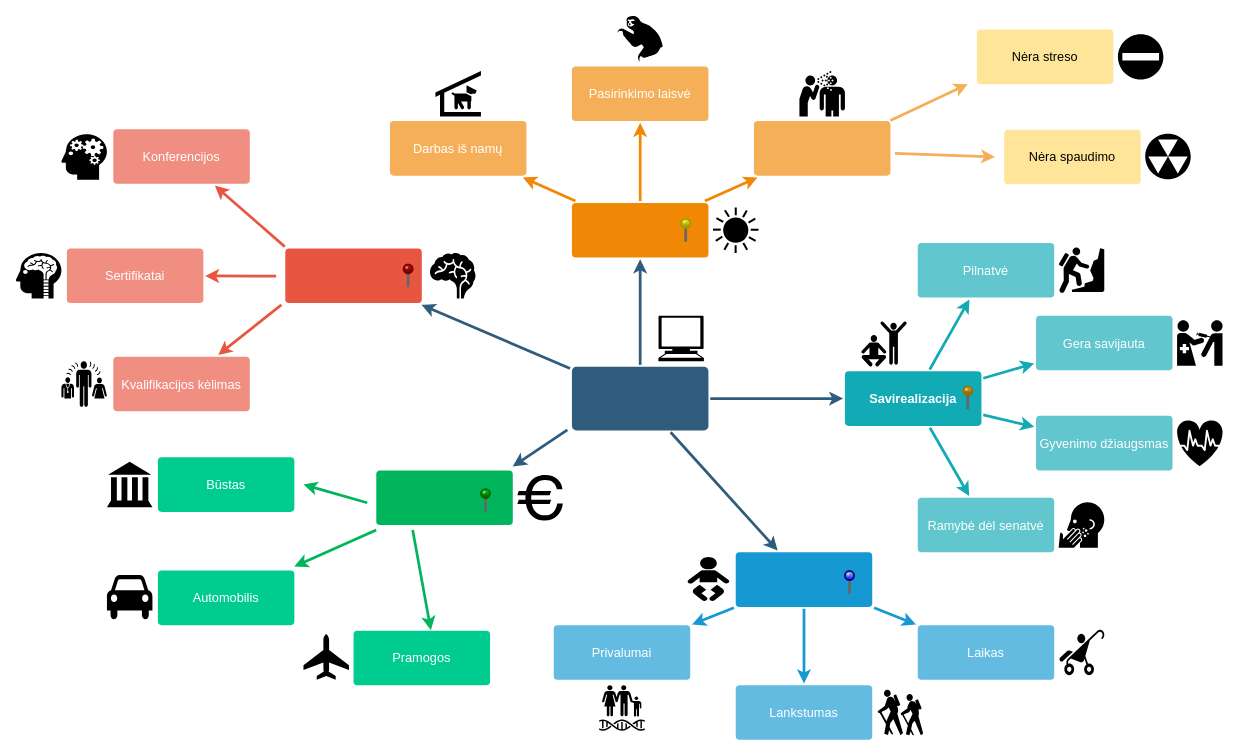
Some shapes in this 1238 by 755 pixel diagram are drawn without their labels. Here are the shapes that lost their labels. From the top down, the box of each, then its label:
(753, 121, 890, 175): Draugiška aplinka
(571, 202, 708, 257): Laisvė
(285, 248, 421, 303): Tobulėjimas
(571, 366, 708, 430): Karjera
(376, 470, 512, 525): Pinigai
(735, 552, 872, 607): Šeima
